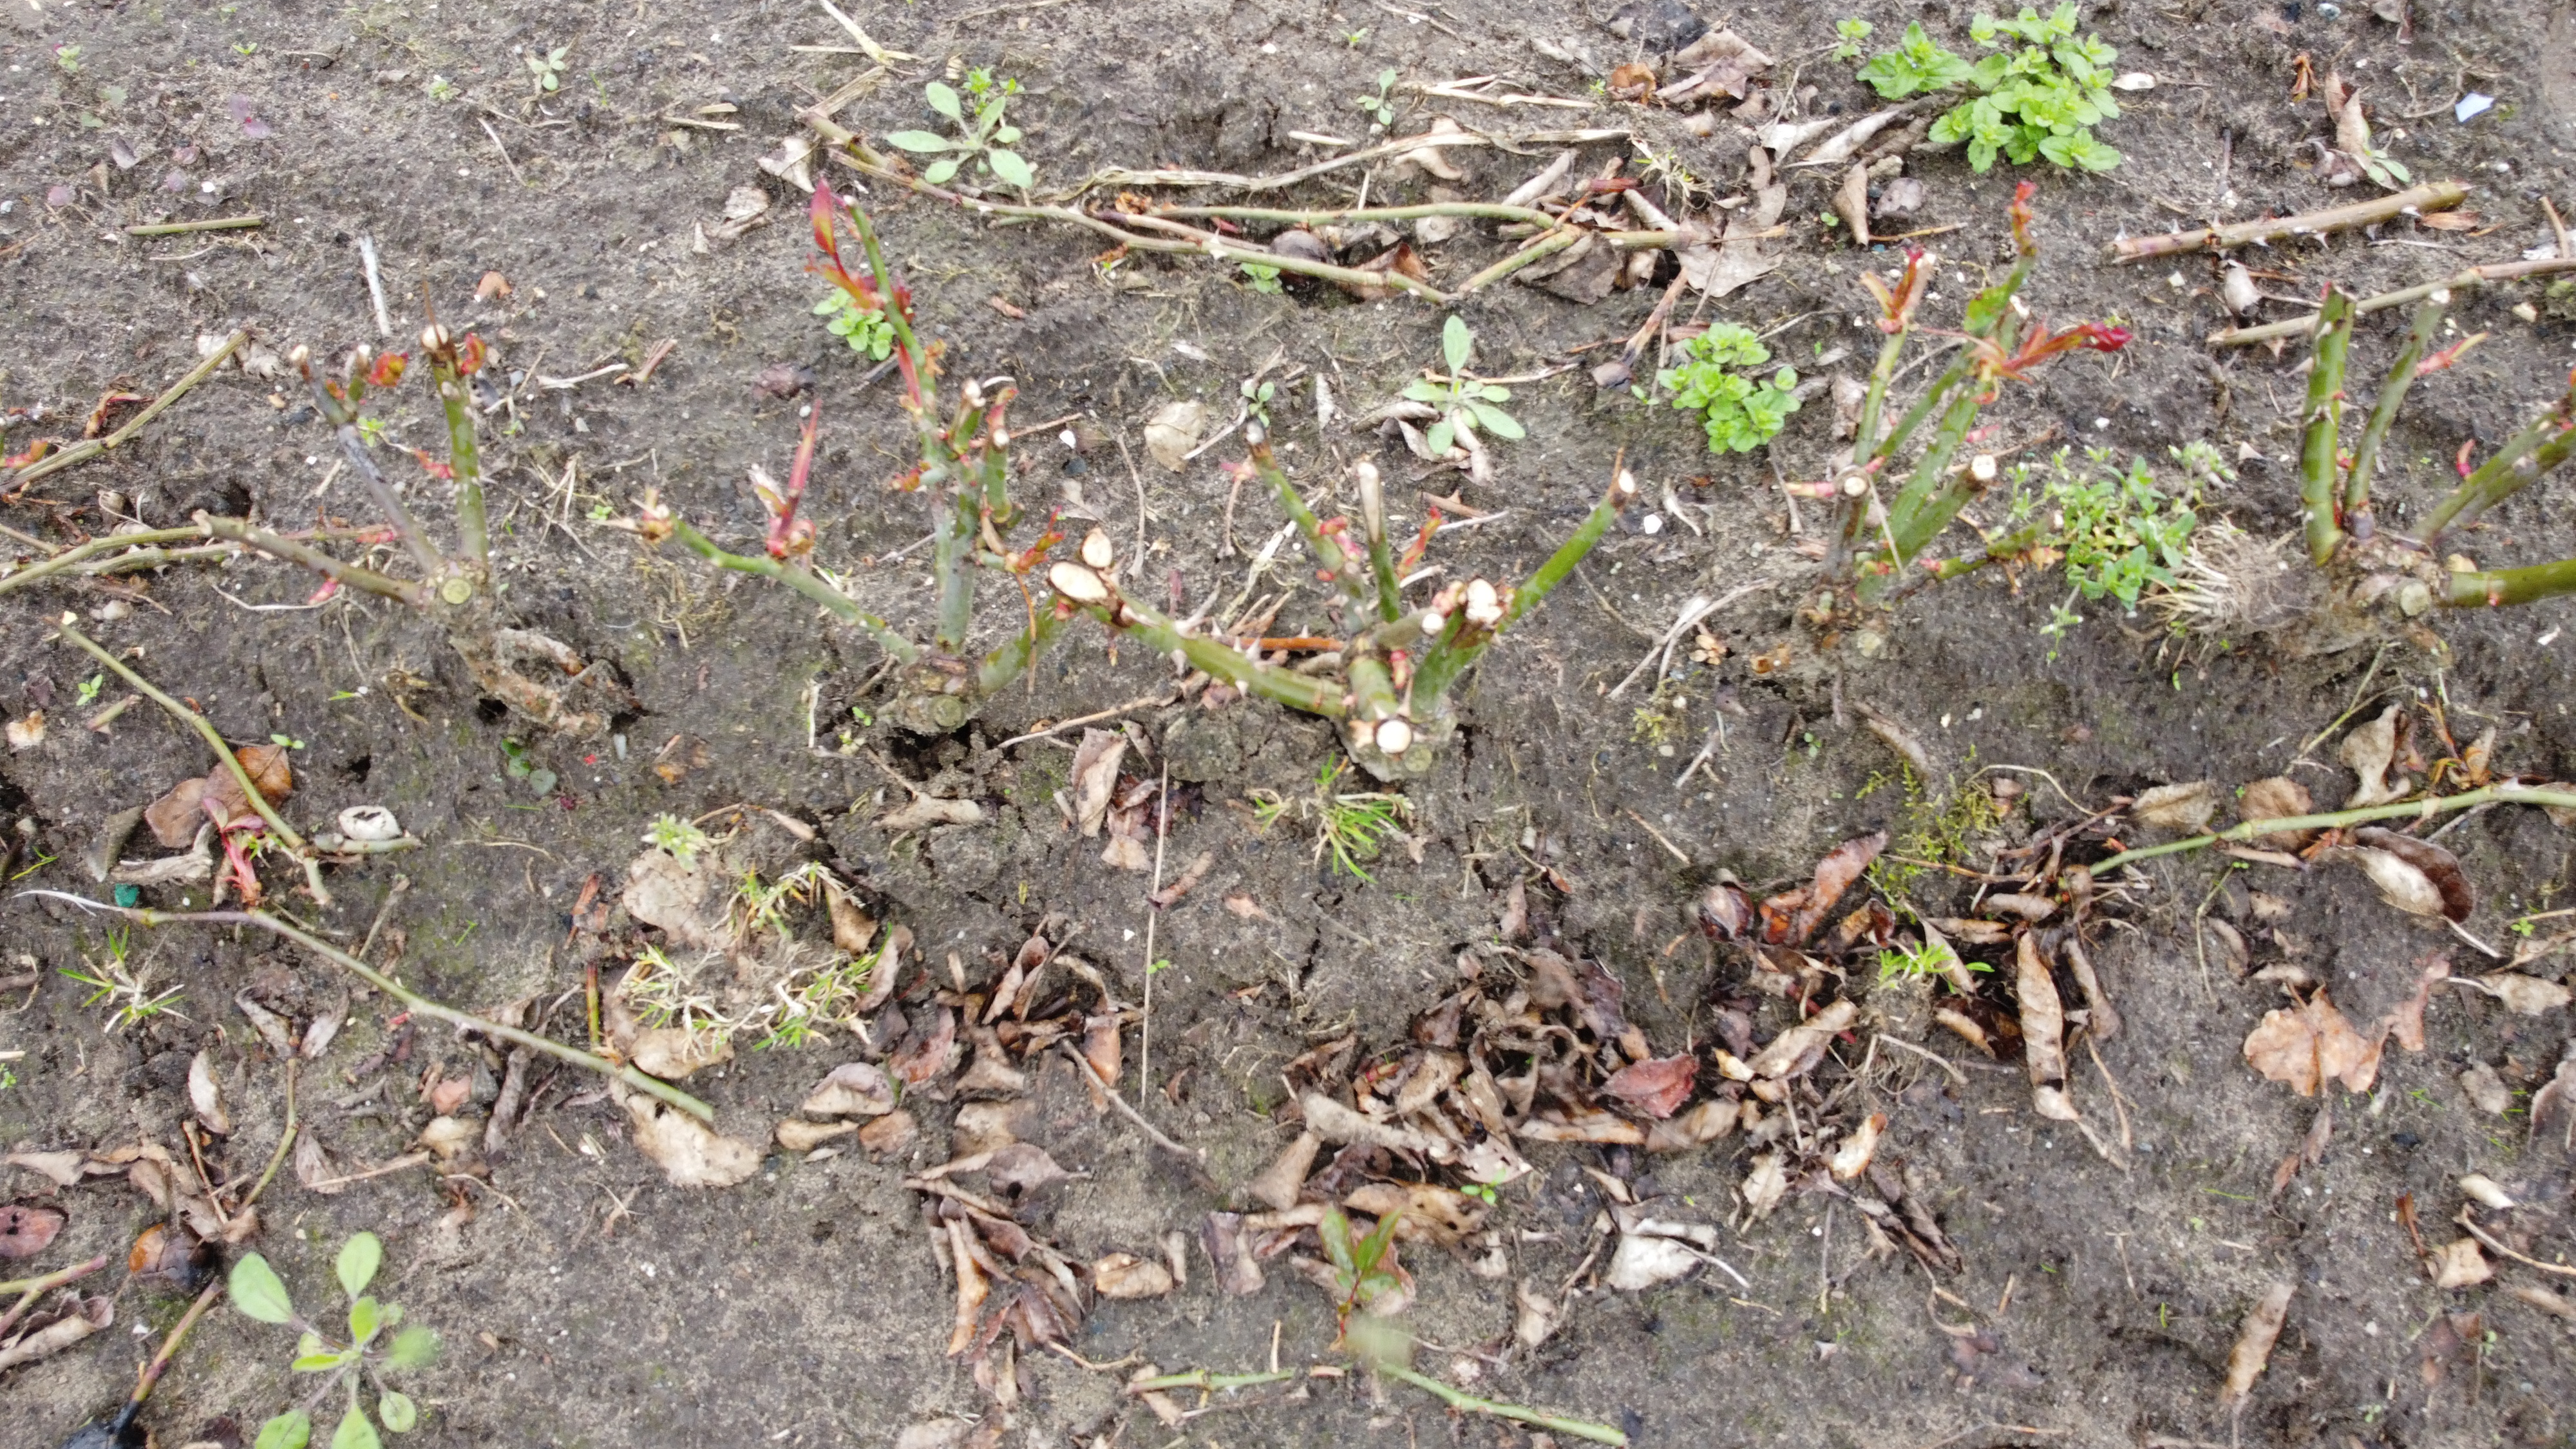rose: (642, 196, 1085, 734), (1056, 425, 1612, 780), (165, 322, 630, 736), (1799, 186, 2128, 648), (2295, 290, 2576, 617), (2178, 559, 2263, 626), (2316, 628, 2371, 644), (2249, 548, 2272, 570), (2233, 600, 2254, 616), (2335, 610, 2364, 621), (2436, 349, 2459, 359), (2516, 267, 2535, 271), (294, 354, 301, 361), (2344, 623, 2353, 628), (2256, 571, 2265, 577), (2224, 543, 2231, 548), (2215, 548, 2224, 552), (2365, 610, 2371, 616), (1322, 649, 1325, 656), (2235, 594, 2242, 598), (2235, 550, 2242, 554), (2256, 617, 2261, 621), (2247, 589, 2250, 593), (2327, 602, 2332, 603), (2235, 540, 2240, 541), (2215, 540, 2220, 541), (2226, 534, 2231, 536), (1614, 494, 1617, 495), (1454, 334, 1456, 338), (2178, 596, 2181, 598), (1454, 347, 1456, 349), (2309, 635, 2311, 637), (2238, 563, 2240, 564), (2330, 614, 2332, 614), (2277, 586, 2281, 586), (2498, 269, 2503, 269)
weed: (607, 821, 881, 1067), (235, 1233, 439, 1449), (1863, 4, 2116, 170), (2045, 455, 2194, 607), (888, 69, 1031, 189), (1661, 324, 1794, 449), (1403, 318, 1522, 455), (64, 936, 179, 1031), (1318, 761, 1396, 878), (1913, 782, 1997, 860), (257, 1399, 313, 1449), (1884, 945, 1953, 975), (525, 48, 563, 94), (2176, 444, 2217, 485), (1833, 19, 1868, 62), (2015, 478, 2031, 518), (662, 1069, 688, 1076), (630, 885, 637, 892), (2187, 487, 2192, 492), (315, 1392, 320, 1398), (324, 1385, 327, 1391), (1753, 357, 1757, 359), (1401, 805, 1403, 809), (1985, 862, 1989, 863), (1461, 442, 1463, 444)
